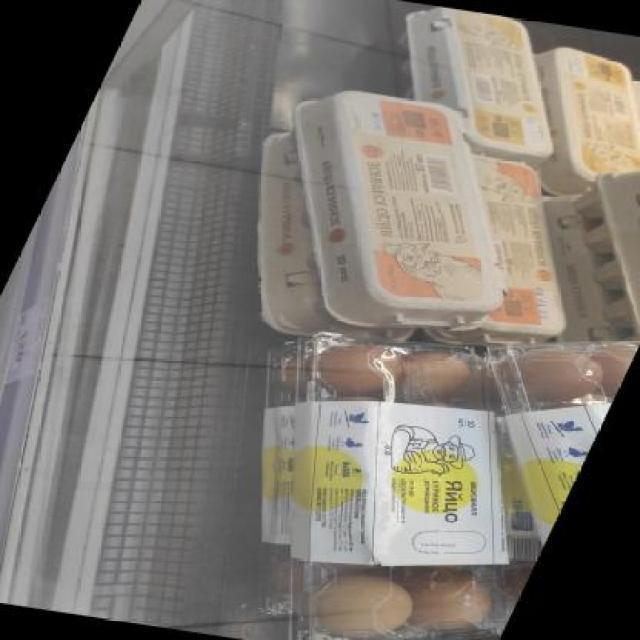Egg: (201, 75, 594, 340)
